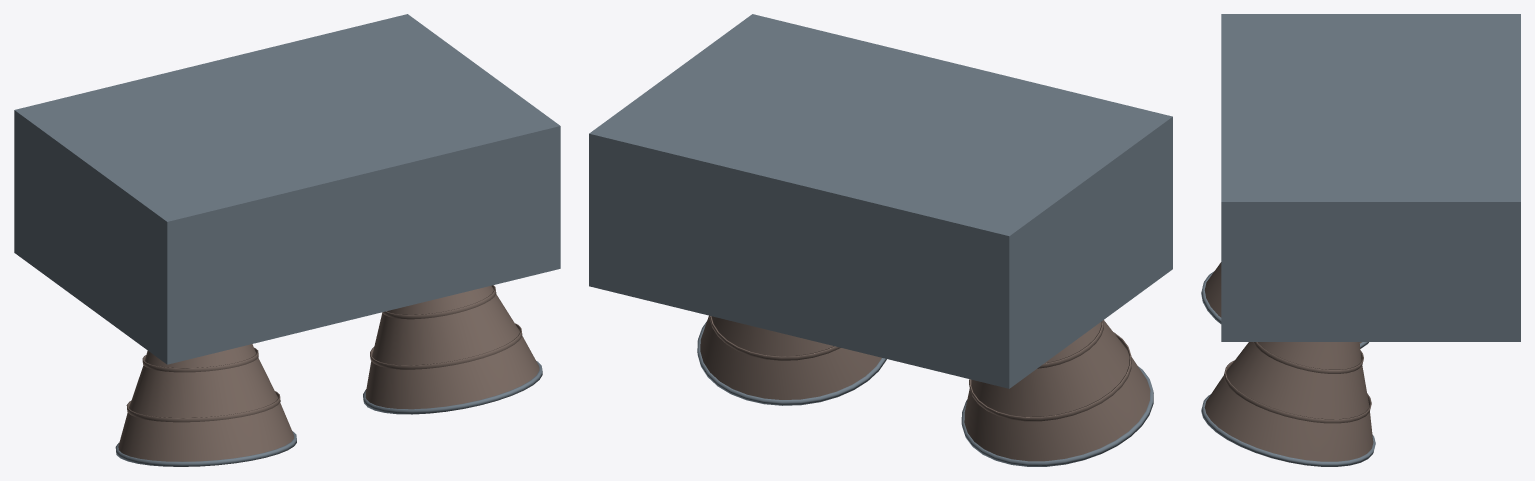
The model's file is mars_descent_stage.landing_engines_04.glb.
The picture shows the model from 3 angles, left to right: view 1: azimuth 30°, elevation 25°; view 2: azimuth 150°, elevation 25°; view 3: azimuth 270°, elevation 25°; orthographic projection. The views are drawn at different scales.
Visible parts, largest first — view 1: mars_descent_stage.landing_engines_04.mesh_Machined_steel, mars_descent_stage.landing_engines_04.mle_02.bell.mesh_Heat-, mars_descent_stage.landing_engines_04.mle_01.bell.mesh_Heat-, mars_descent_stage.landing_engines_04.mle_02.bell.mesh_Machi, mars_descent_stage.landing_engines_04.mle_01.bell.mesh_Machi; view 2: mars_descent_stage.landing_engines_04.mesh_Machined_steel, mars_descent_stage.landing_engines_04.mle_01.bell.mesh_Heat-, mars_descent_stage.landing_engines_04.mle_02.bell.mesh_Heat-, mars_descent_stage.landing_engines_04.mle_01.bell.mesh_Machi, mars_descent_stage.landing_engines_04.mle_02.bell.mesh_Machi; view 3: mars_descent_stage.landing_engines_04.mesh_Machined_steel, mars_descent_stage.landing_engines_04.mle_02.bell.mesh_Heat-, mars_descent_stage.landing_engines_04.mle_02.bell.mesh_Machi, mars_descent_stage.landing_engines_04.mle_01.bell.mesh_Heat-.
Boxes of the visible parts, x1,y1,x2,y2 form: mars_descent_stage.landing_engines_04.mesh_Machined_steel: [14, 14, 560, 364]; mars_descent_stage.landing_engines_04.mle_02.bell.mesh_Heat-: [365, 285, 539, 409]; mars_descent_stage.landing_engines_04.mle_01.bell.mesh_Heat-: [118, 344, 293, 461]; mars_descent_stage.landing_engines_04.mle_02.bell.mesh_Machi: [363, 361, 542, 414]; mars_descent_stage.landing_engines_04.mle_01.bell.mesh_Machi: [115, 431, 296, 466]; mars_descent_stage.landing_engines_04.mesh_Machined_steel: [589, 14, 1172, 388]; mars_descent_stage.landing_engines_04.mle_01.bell.mesh_Heat-: [964, 320, 1150, 461]; mars_descent_stage.landing_engines_04.mle_02.bell.mesh_Heat-: [700, 315, 881, 399]; mars_descent_stage.landing_engines_04.mle_01.bell.mesh_Machi: [961, 366, 1153, 466]; mars_descent_stage.landing_engines_04.mle_02.bell.mesh_Machi: [697, 321, 886, 405]; mars_descent_stage.landing_engines_04.mesh_Machined_steel: [1221, 14, 1520, 341]; mars_descent_stage.landing_engines_04.mle_02.bell.mesh_Heat-: [1204, 342, 1373, 461]; mars_descent_stage.landing_engines_04.mle_02.bell.mesh_Machi: [1201, 394, 1375, 466]; mars_descent_stage.landing_engines_04.mle_01.bell.mesh_Heat-: [1204, 262, 1361, 343].
Size of the model in its own units: 0.5033 by 0.3414 by 0.3521.
